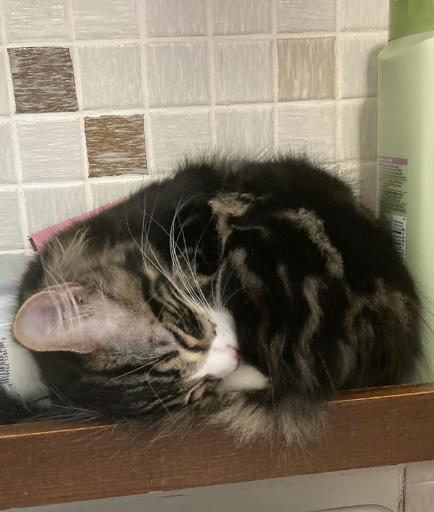cat_sleeping: (13, 155, 422, 441)
